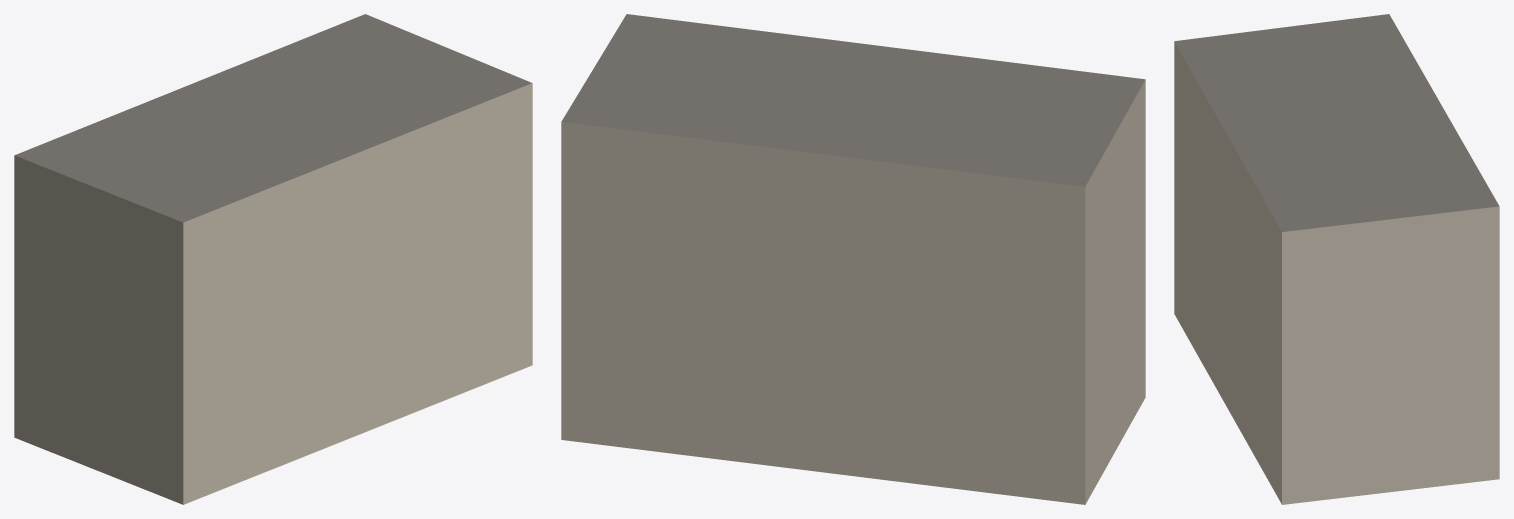
3 views of the same model, side by side, from view 1: azimuth 30°, elevation 25°; view 2: azimuth 150°, elevation 25°; view 3: azimuth 270°, elevation 25° (orthographic). The views are drawn at different scales.
Parts seen in each view (by area): view 1: HP-w446934367; view 2: HP-w446934367; view 3: HP-w446934367.
Part boxes in pixels (x1=…): HP-w446934367: x1=14, y1=14, x2=532, y2=504; HP-w446934367: x1=561, y1=14, x2=1145, y2=504; HP-w446934367: x1=1174, y1=14, x2=1499, y2=504.
Bounding box in the file's own units: 30.86 × 18 × 19.45.
